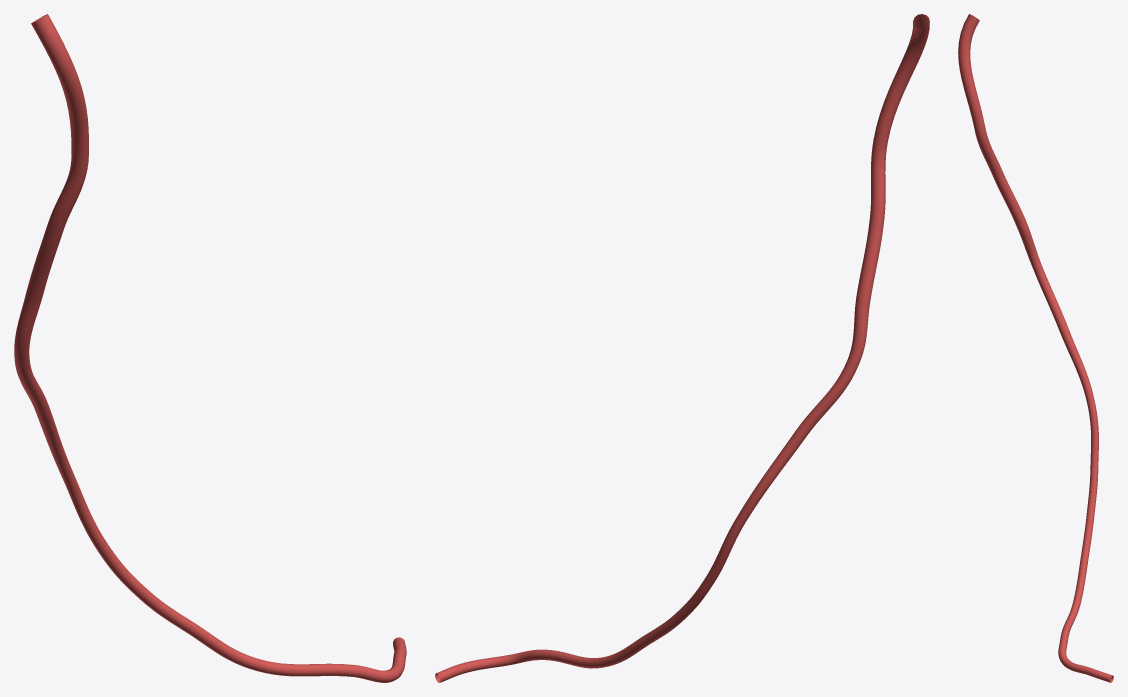
The picture shows the model from 3 angles, left to right: view 1: azimuth 30°, elevation 25°; view 2: azimuth 150°, elevation 25°; view 3: azimuth 270°, elevation 25°; orthographic projection. The views are drawn at different scales.
Visible parts, largest first — view 1: 右侧面横动脉; view 2: 右侧面横动脉; view 3: 右侧面横动脉.
Boxes of the visible parts, x1=… form: 右侧面横动脉: x1=14, y1=14, x2=406, y2=682; 右侧面横动脉: x1=435, y1=14, x2=929, y2=682; 右侧面横动脉: x1=958, y1=14, x2=1113, y2=682.
Size of the model in its own units: 0.0654 by 0.1077 by 0.029.
